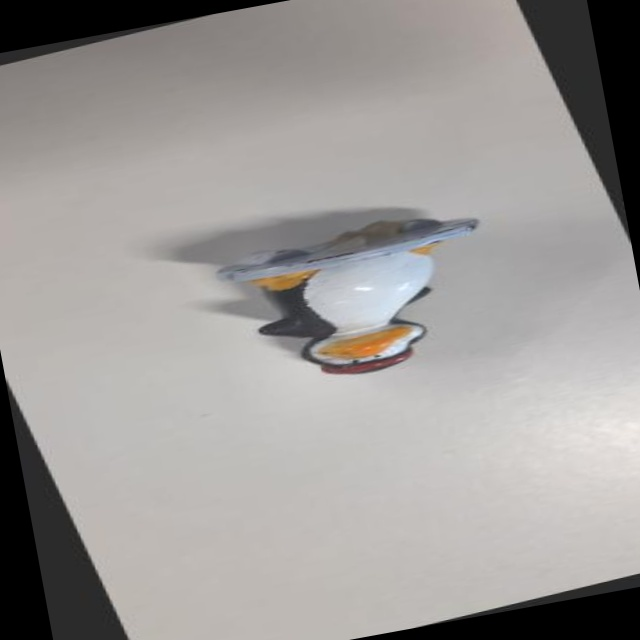Penguin: (204, 196, 524, 410)
